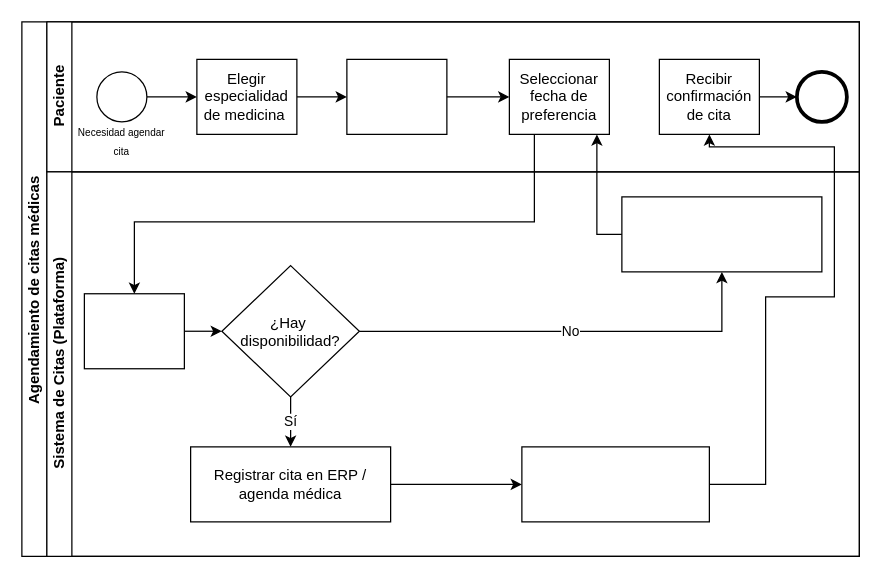
Image size: 881x579. Some labels were removed from this diagram. Each missing label, with the centre of its shape:
Elegir médico de preferencia: pixel 396 96
Enviar confirmación (correo/SMS): pixel 615 484
Ofrecer alternativas (otra fecha/médico): pixel 721 234
Validar datos y generar solicitud de cita: pixel 133 330
